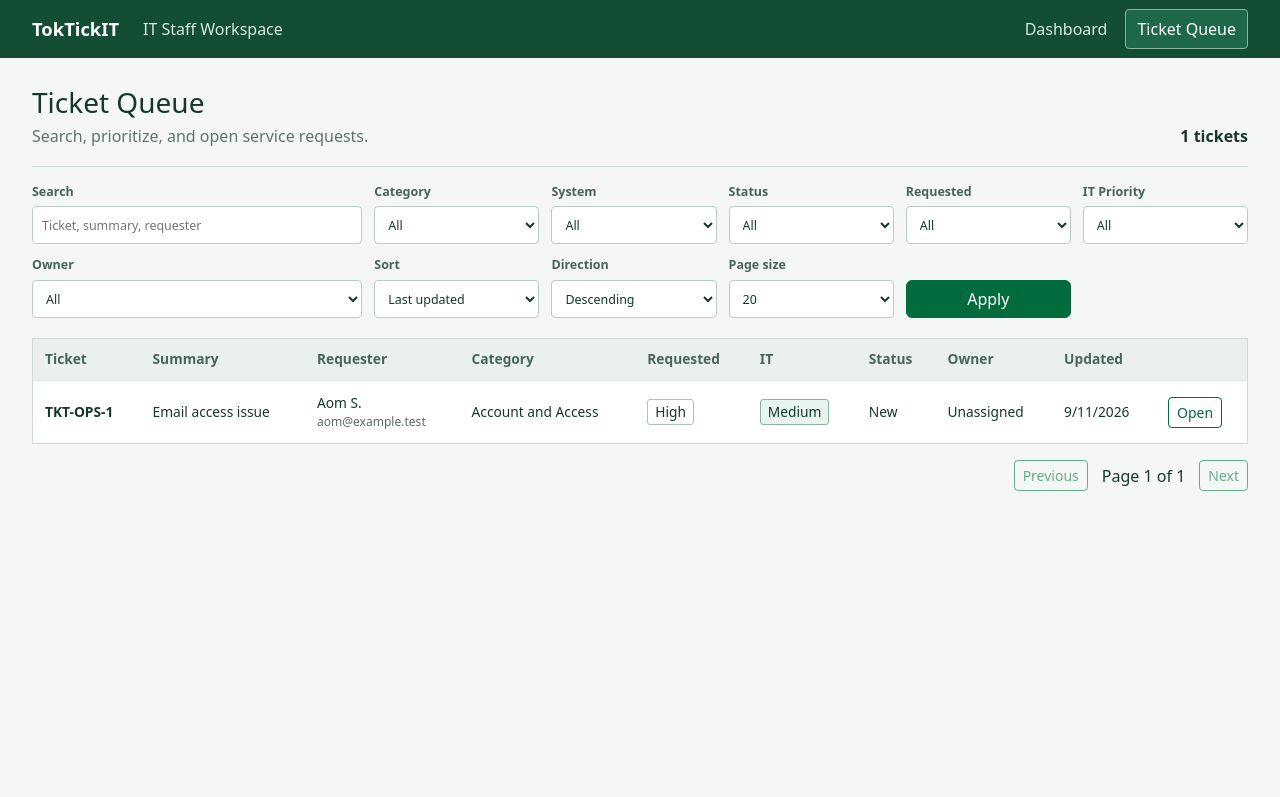
it: IT Staff Ticket Detail operations › opens a ticket and claims it using the authenticated staff identity
Click the button with aria-label "Open TKT-OPS-1" at (1195, 412), box 1168,396 -> 1222,428
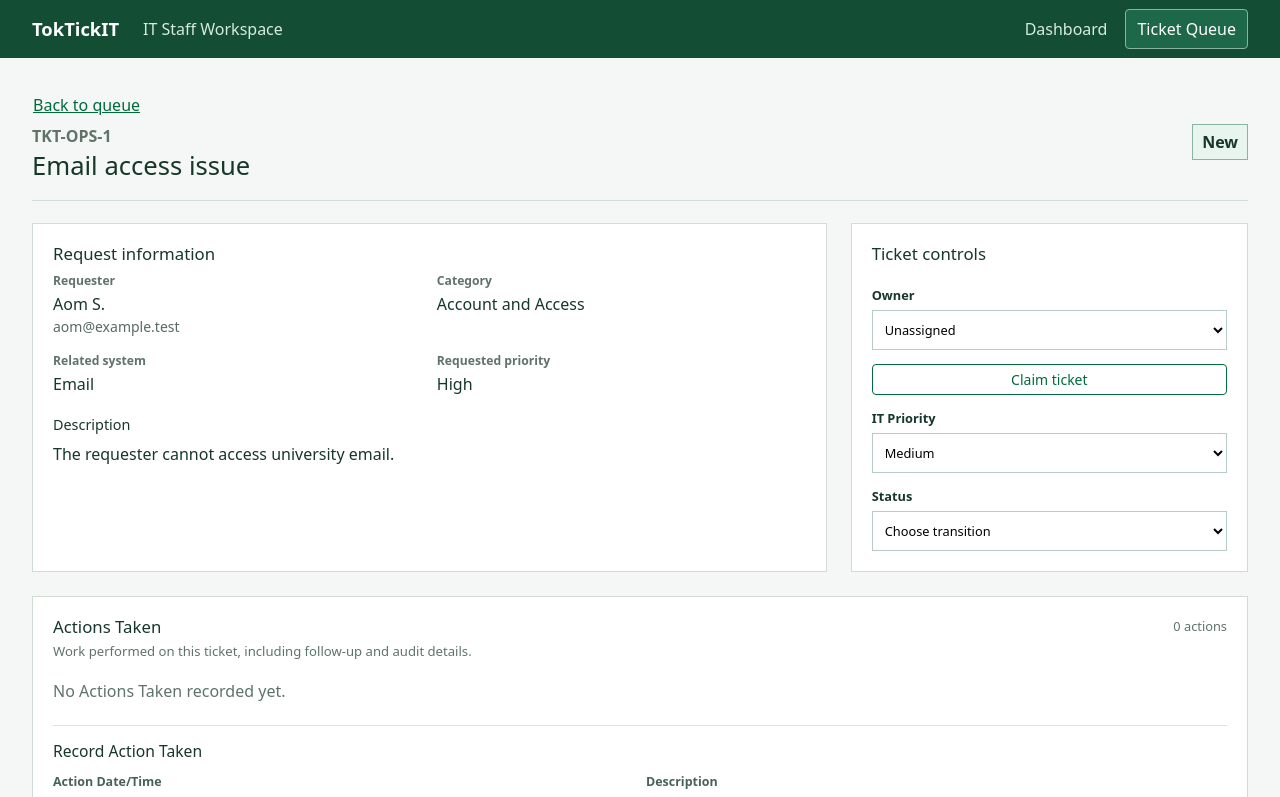
Result: the heading "Email access issue" is shown at 32,151 -> 250,182
Click the button "Claim ticket" at (1049, 380), box 872,364 -> 1227,395
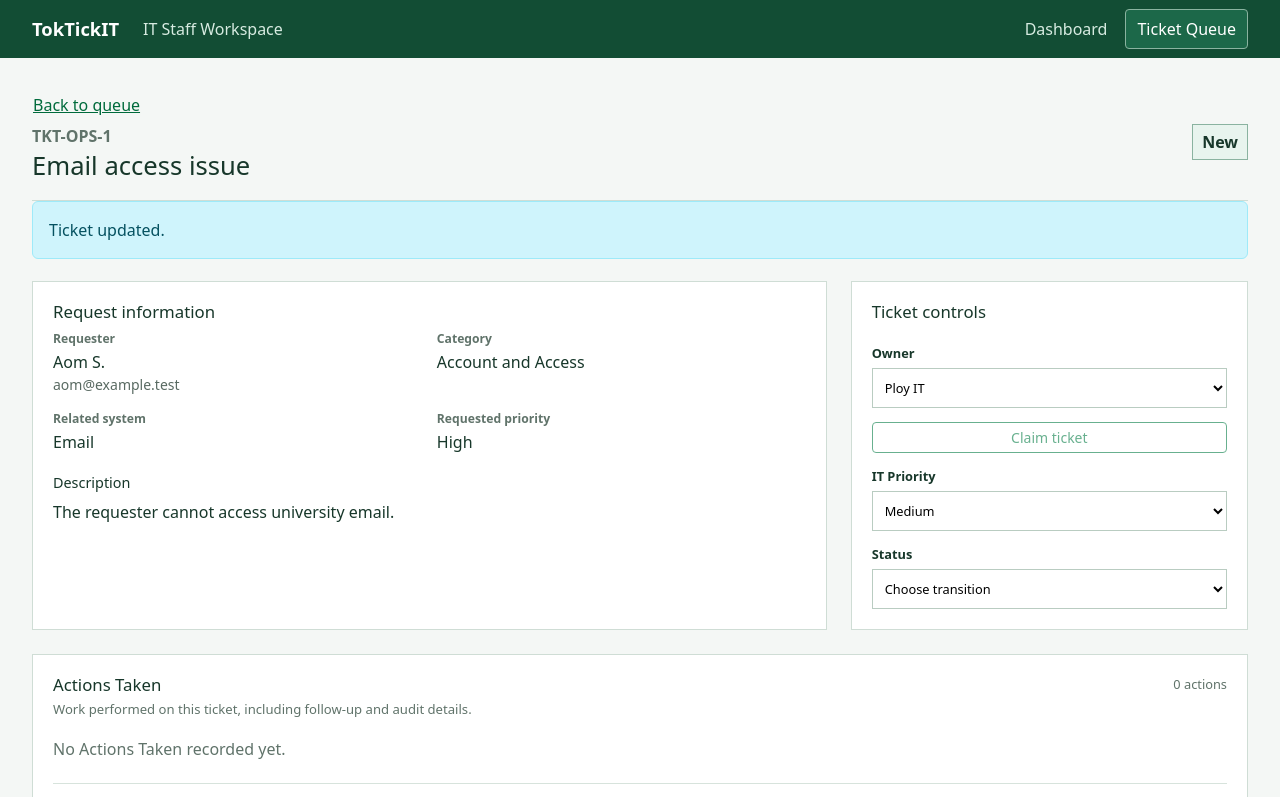
Result: the message reads "Ticket updated." at 49,219 -> 165,241
